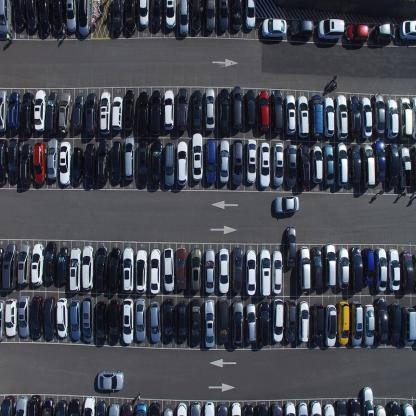car: (2, 242, 18, 290), (374, 296, 389, 345), (349, 245, 363, 292), (349, 299, 363, 346), (81, 245, 95, 292), (334, 93, 348, 140), (397, 97, 412, 140), (297, 143, 311, 189), (58, 140, 72, 186), (317, 18, 345, 41), (150, 138, 163, 187), (30, 293, 44, 338), (335, 142, 349, 187), (95, 298, 108, 346), (136, 90, 149, 138), (30, 242, 44, 286), (17, 242, 31, 286), (361, 143, 375, 187), (58, 91, 72, 135), (401, 304, 416, 345), (384, 98, 399, 139), (386, 141, 399, 188), (149, 89, 162, 136), (32, 142, 46, 185), (7, 139, 21, 182), (323, 242, 336, 288), (257, 301, 270, 347), (108, 298, 121, 344), (108, 247, 121, 293), (95, 245, 108, 291), (69, 247, 82, 293), (46, 136, 59, 182), (97, 369, 124, 391), (298, 245, 310, 294), (388, 302, 402, 344), (231, 299, 243, 348), (259, 248, 271, 297), (122, 246, 134, 295), (372, 92, 386, 134), (218, 87, 230, 136), (258, 140, 270, 189), (191, 132, 203, 181), (19, 142, 33, 184), (400, 249, 413, 294), (336, 300, 349, 345), (44, 240, 57, 285), (45, 90, 58, 135), (122, 296, 134, 344), (82, 295, 94, 343), (231, 138, 243, 186), (372, 140, 386, 181), (374, 248, 387, 292), (387, 247, 400, 291), (43, 296, 56, 340), (18, 294, 31, 338), (162, 248, 175, 292), (310, 94, 323, 138), (296, 94, 309, 138), (21, 90, 34, 134), (261, 18, 287, 40), (231, 247, 243, 294), (272, 140, 284, 187), (205, 137, 217, 184), (257, 89, 270, 132), (218, 248, 230, 294), (149, 248, 161, 294), (135, 249, 147, 295), (231, 85, 243, 131), (204, 87, 216, 133), (245, 138, 257, 184), (176, 140, 188, 186), (99, 90, 111, 136), (204, 298, 215, 348), (289, 18, 314, 40), (56, 296, 69, 338), (312, 301, 324, 346), (284, 298, 296, 343), (272, 298, 284, 343), (218, 138, 230, 183), (123, 88, 135, 133), (399, 147, 412, 188), (310, 246, 322, 290), (324, 304, 336, 348), (190, 298, 201, 346), (149, 299, 161, 343), (174, 246, 186, 290), (349, 94, 361, 138), (271, 90, 283, 134), (322, 143, 334, 187), (285, 144, 297, 188), (138, 139, 149, 187), (111, 140, 123, 184), (98, 139, 110, 183), (176, 88, 188, 132), (85, 92, 97, 136), (5, 297, 18, 337), (56, 246, 69, 286), (273, 194, 299, 214), (348, 144, 361, 184), (218, 297, 229, 344), (245, 249, 256, 296), (164, 141, 175, 188), (124, 134, 135, 181), (337, 247, 349, 290), (363, 303, 375, 346), (70, 298, 82, 341), (163, 298, 174, 344), (204, 248, 215, 294), (190, 247, 201, 293), (85, 142, 96, 188), (297, 300, 309, 342), (245, 302, 257, 344), (360, 96, 372, 138), (284, 94, 296, 136), (8, 90, 20, 132), (135, 297, 146, 342), (323, 97, 335, 138), (191, 88, 202, 132), (34, 88, 45, 132), (311, 144, 323, 184), (72, 146, 84, 186), (345, 23, 369, 43), (285, 225, 296, 268), (163, 89, 174, 132), (244, 89, 256, 128), (73, 93, 85, 132), (78, 0, 90, 39), (39, 0, 52, 36), (65, 0, 79, 33), (52, 0, 66, 33), (0, 0, 13, 35), (177, 300, 187, 344), (272, 250, 282, 294), (374, 22, 396, 42), (112, 95, 124, 131), (360, 386, 374, 416), (124, 0, 136, 35), (363, 247, 374, 285), (230, 0, 243, 32), (112, 0, 124, 34), (26, 0, 39, 31), (178, 0, 189, 36), (398, 20, 416, 41), (13, 0, 26, 29), (218, 0, 229, 33), (0, 89, 8, 133), (205, 0, 216, 32), (191, 0, 201, 35), (0, 138, 7, 186), (1, 394, 16, 416), (165, 0, 176, 30), (151, 0, 162, 30), (138, 0, 149, 29), (27, 394, 42, 415), (15, 394, 29, 416), (40, 395, 55, 415), (245, 0, 255, 30), (410, 96, 416, 140), (82, 395, 95, 415), (67, 398, 81, 416), (410, 146, 416, 186), (0, 298, 5, 342), (348, 398, 360, 416), (335, 398, 347, 416), (56, 398, 68, 416), (387, 401, 402, 415), (0, 246, 5, 288), (309, 400, 322, 416), (401, 402, 415, 416), (283, 401, 296, 415), (175, 402, 188, 416), (95, 400, 107, 415), (190, 400, 201, 416), (122, 402, 134, 416), (135, 403, 148, 415), (108, 403, 121, 415), (297, 402, 308, 416), (204, 401, 215, 415), (412, 253, 416, 291), (323, 403, 335, 415), (256, 403, 268, 415), (231, 402, 241, 416), (150, 402, 160, 416), (374, 404, 386, 415), (243, 403, 254, 415), (217, 403, 228, 415), (272, 403, 282, 415), (162, 408, 174, 416)
